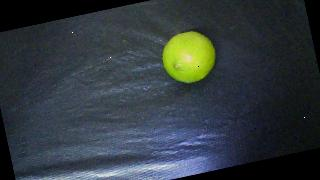LOCAL: (158, 27, 221, 88)
